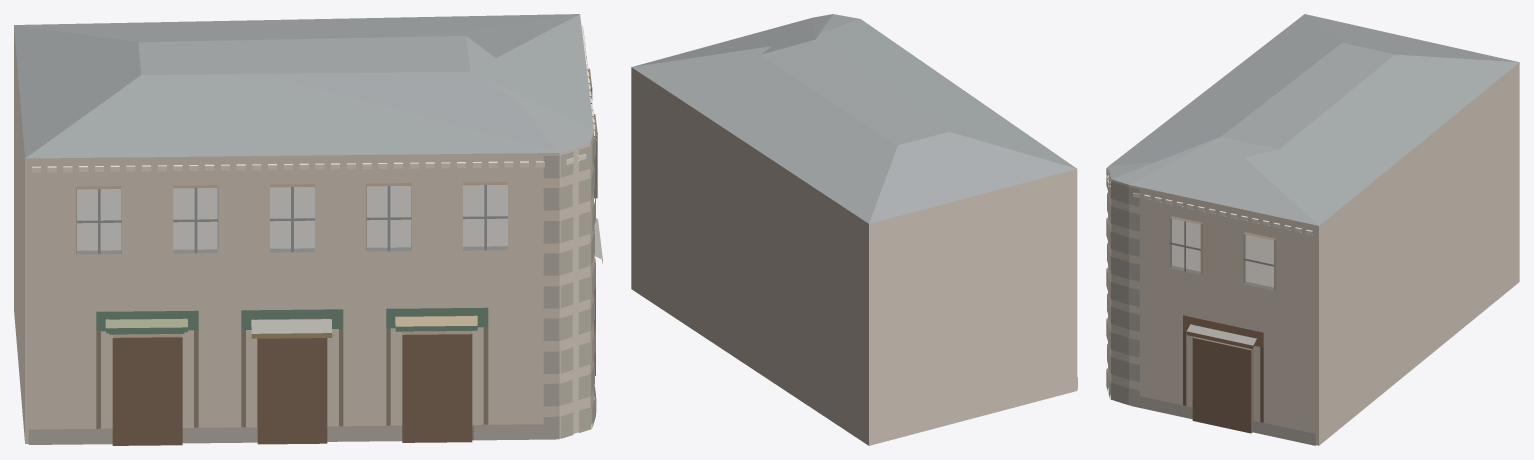
The model's file is S-41-43-45-E16.merged_mass.glb.
3 views of the same model, side by side, from view 1: azimuth 30°, elevation 25°; view 2: azimuth 150°, elevation 25°; view 3: azimuth 270°, elevation 25° (orthographic). The views are drawn at different scales.
Parts seen in each view (by area): view 1: S-41-43-45-E16.merged_mass; view 2: S-41-43-45-E16.merged_mass; view 3: S-41-43-45-E16.merged_mass.
Part boxes in pixels (x1,y1,x2,y2): S-41-43-45-E16.merged_mass: (14, 14, 602, 445); S-41-43-45-E16.merged_mass: (631, 14, 1077, 445); S-41-43-45-E16.merged_mass: (1106, 14, 1519, 445).
Bounding box in the file's own units: 14.49 × 7.77 × 11.92.
